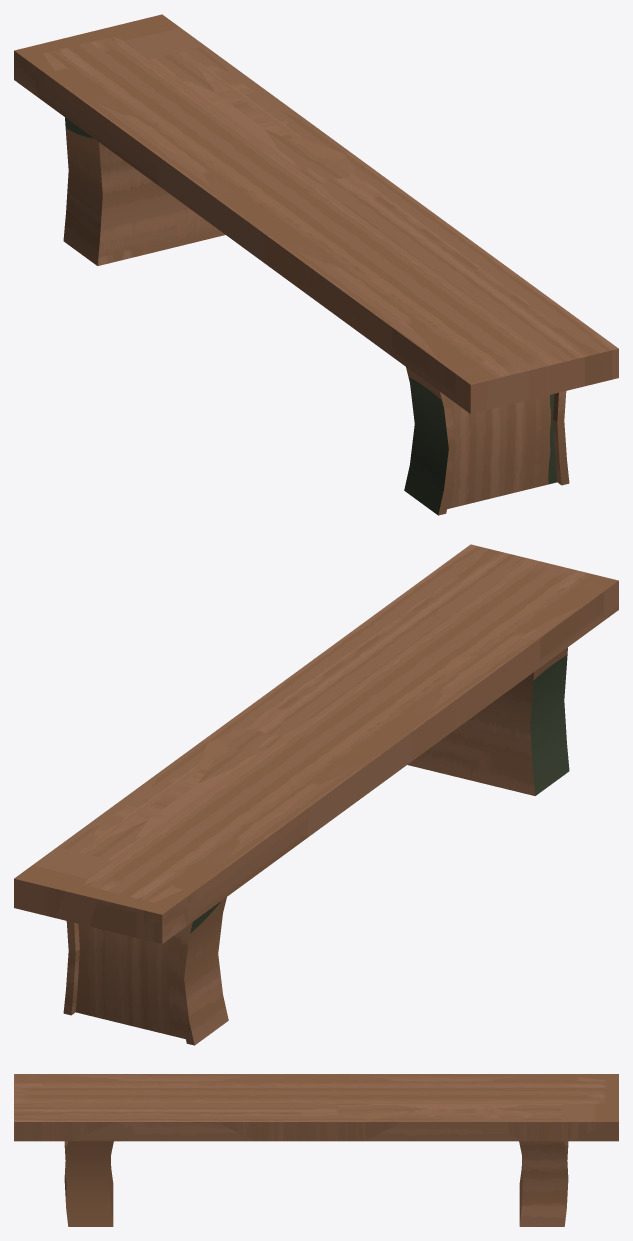
The model's file is banc.fbx.
3 renders of one model, top to bottom at view 1: azimuth 30°, elevation 25°; view 2: azimuth 150°, elevation 25°; view 3: azimuth 270°, elevation 25°, orthographic. The views are drawn at different scales.
Visible parts, largest first — view 1: T2_banc; view 2: T2_banc; view 3: T2_banc.
Part boxes in pixels (bbox=[...]): T2_banc: bbox=[14, 14, 618, 515]; T2_banc: bbox=[14, 544, 618, 1045]; T2_banc: bbox=[14, 1074, 618, 1226].
Bounding box in the file's own units: 37.49 × 39.33 × 200.
